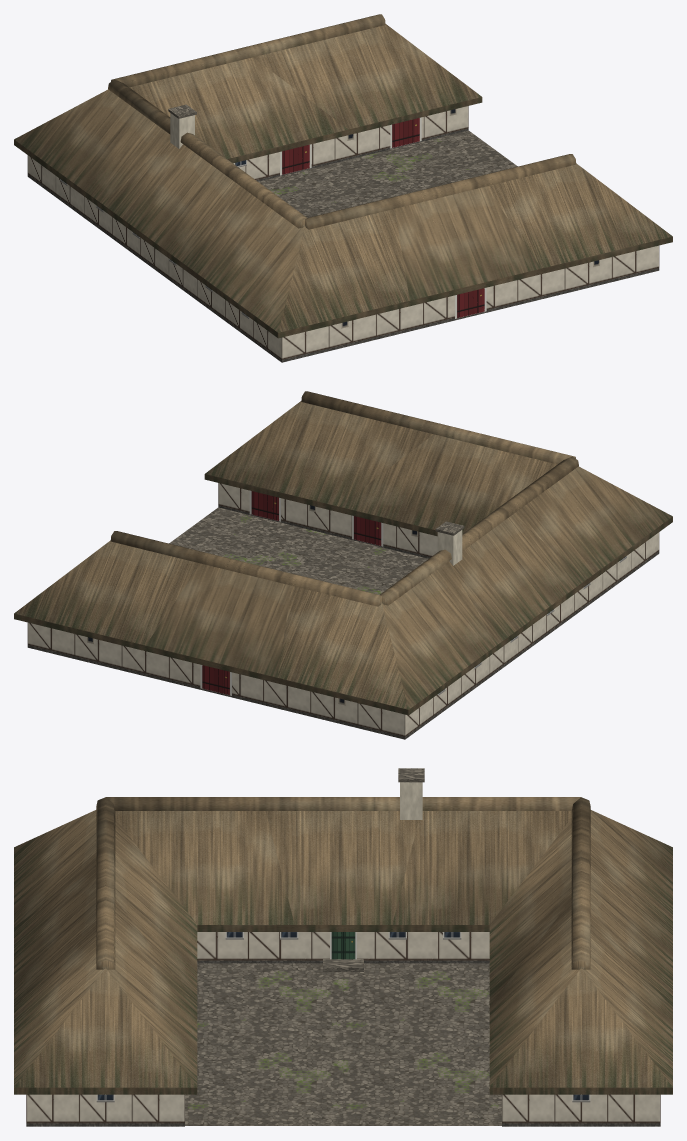
The model's file is SM_Farm_Trelaenget.fbx.
3 renders of one model, top to bottom at view 1: azimuth 30°, elevation 25°; view 2: azimuth 150°, elevation 25°; view 3: azimuth 270°, elevation 25°, orthographic. The views are drawn at different scales.
Visible parts, largest first — view 1: SM_Farm_Trelaenget; view 2: SM_Farm_Trelaenget; view 3: SM_Farm_Trelaenget.
Boxes of the visible parts, x1,y1,x2,y2 form: SM_Farm_Trelaenget: (14, 14, 672, 362); SM_Farm_Trelaenget: (14, 391, 672, 739); SM_Farm_Trelaenget: (14, 768, 672, 1126).
Bounding box in the file's own units: 2510 × 2910 × 764.
1 material, 1 textured.
